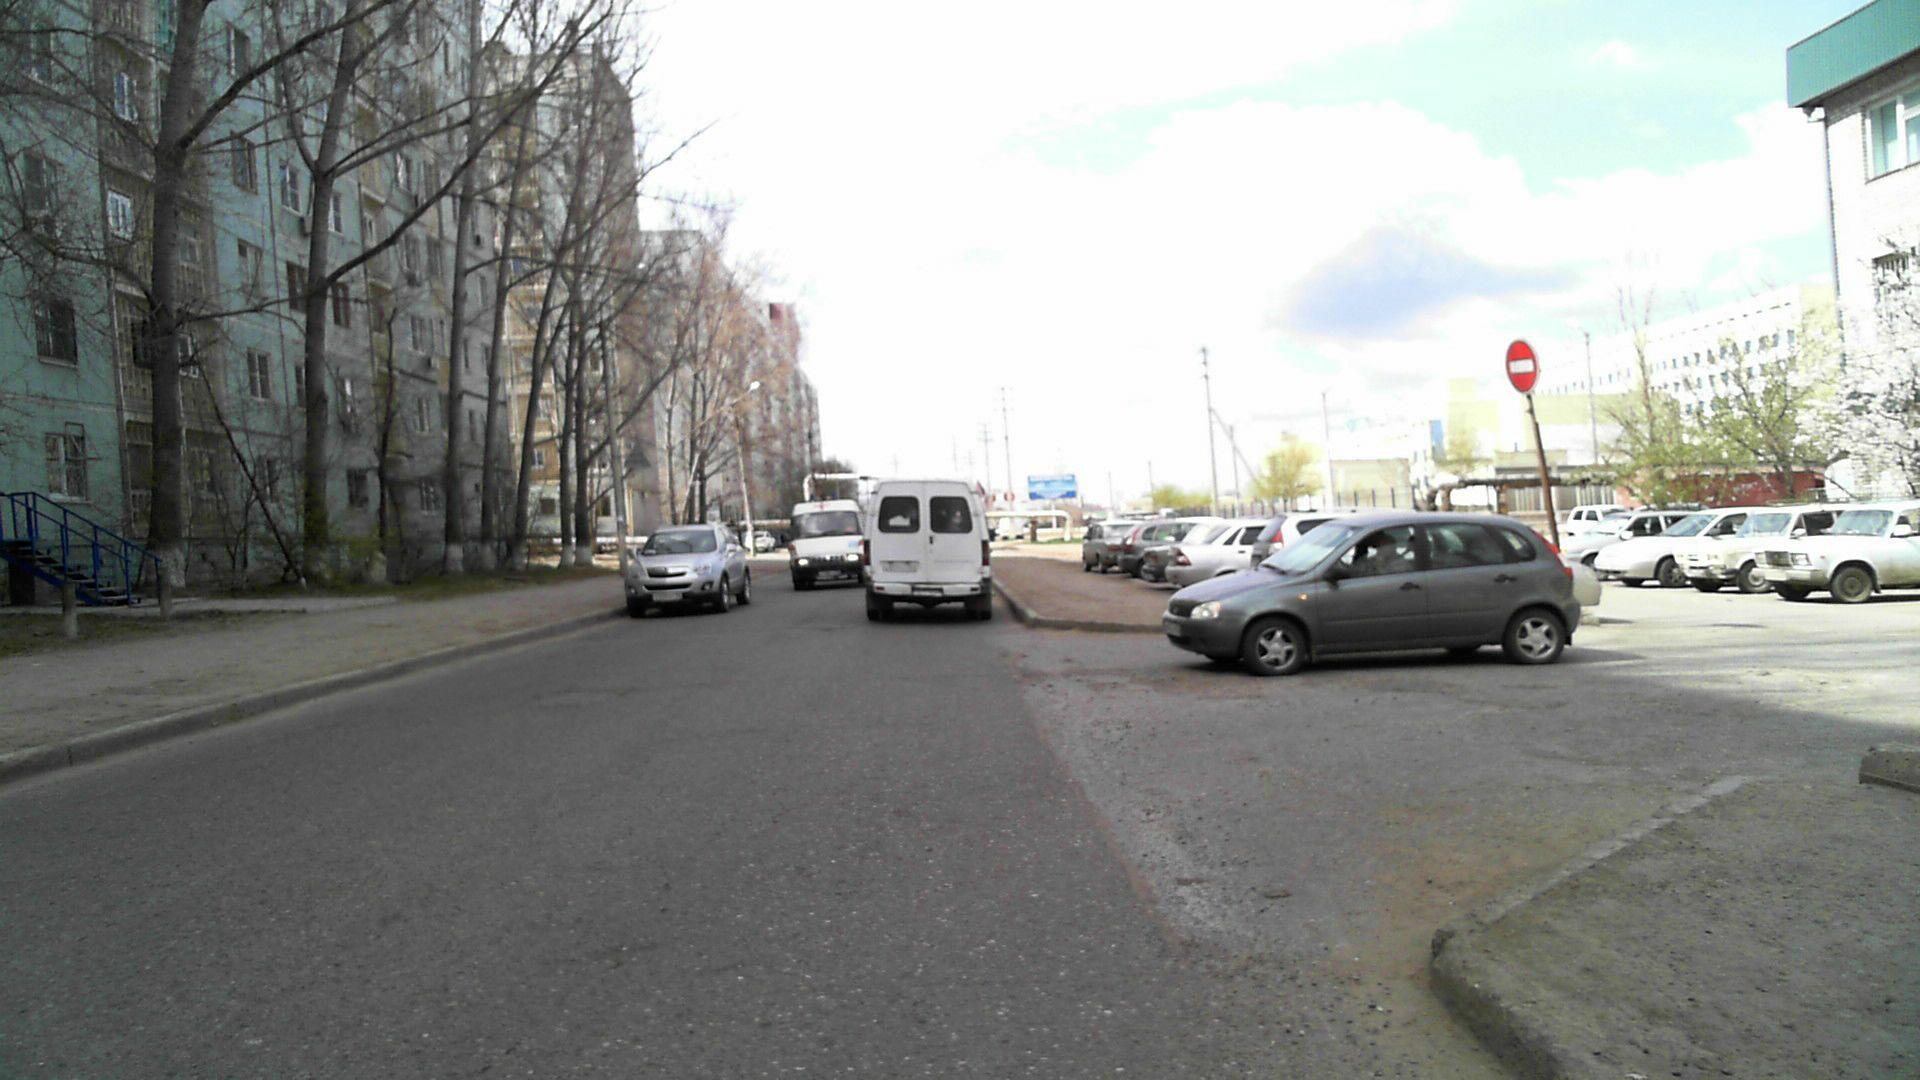3_1: (1503, 339, 1537, 394)
